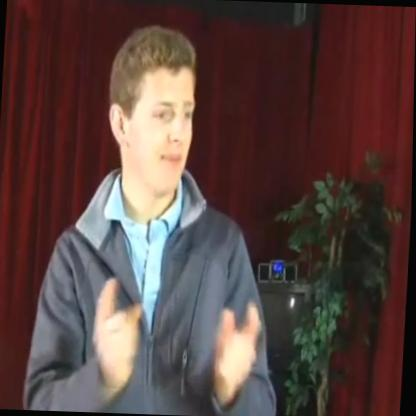NiceToMeetYou: (82, 258, 274, 416)
